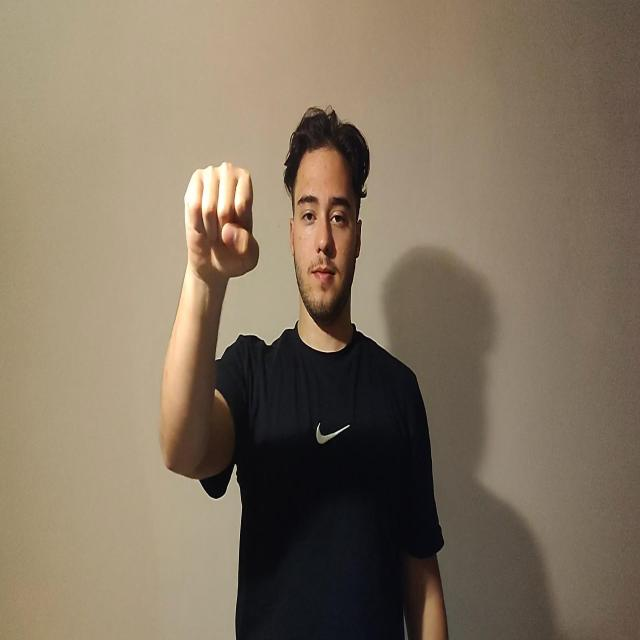yes: (183, 160, 260, 287)
